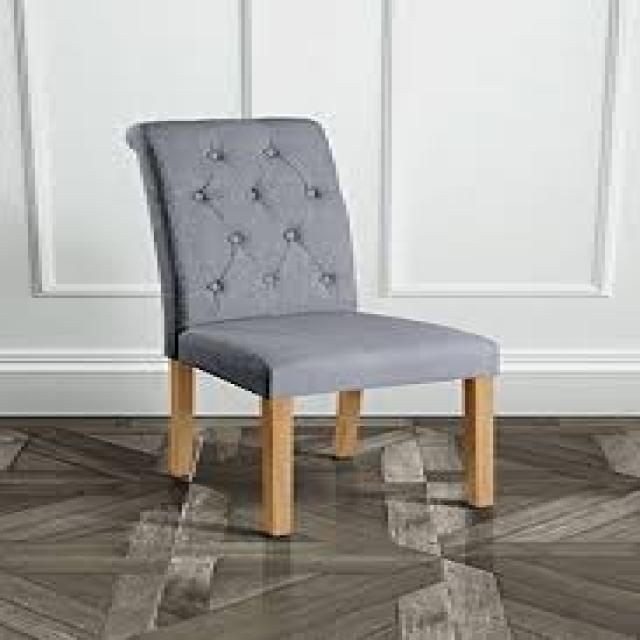bottle: (128, 111, 501, 540)
